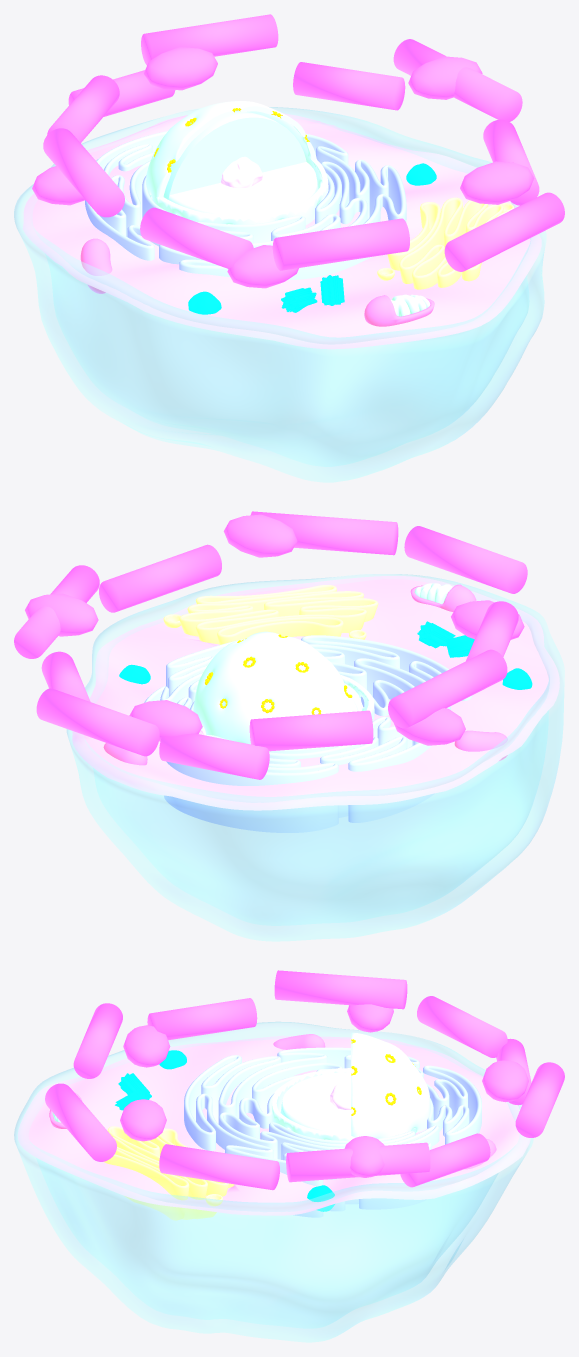
Rendered from heart-cellular-responding-1.glb.
3 views of the same model, one above another, from view 1: azimuth 30°, elevation 25°; view 2: azimuth 150°, elevation 25°; view 3: azimuth 270°, elevation 25° (orthographic). The views are drawn at different scales.
Parts seen in each view (by area): view 1: Sphere_0, Sphere.001_0, BezierCurve_0, Roundcube_0, Icosphere_0, BezierCurve.002_0, AmyloidFibril_7, AmyloidFibril_6, AmyloidFibril_4, AmyloidFibril_8, AmyloidFibril_3, AmyloidFibril_2 (+13 smaller); view 2: Sphere_0, Sphere.001_0, BezierCurve_0, Icosphere_0, BezierCurve.002_0, AmyloidFibril_4, AmyloidFibril_7, AmyloidFibril_1, AmyloidFibril_2, AmyloidFibril_9, AmyloidFibril_6, AmyloidFibril_5 (+12 smaller); view 3: Sphere_0, Sphere.001_0, BezierCurve_0, Icosphere_0, BezierCurve.002_0, AmyloidFibril_2, AmyloidFibril_1, AmyloidFibril_0, Roundcube_0, AmyloidFibril_3, AmyloidFibril_9, AmyloidFibril_6 (+12 smaller).
Part boxes in pixels (x1,y1,x2,y2): Sphere_0: (14, 107, 546, 482); Sphere.001_0: (22, 113, 541, 349); BezierCurve_0: (85, 131, 406, 280); Roundcube_0: (163, 111, 318, 215); Icosphere_0: (146, 101, 328, 224); BezierCurve.002_0: (377, 197, 514, 289); AmyloidFibril_7: (272, 218, 409, 270); AmyloidFibril_6: (444, 192, 564, 271); AmyloidFibril_4: (141, 14, 278, 65); AmyloidFibril_8: (293, 62, 405, 110); AmyloidFibril_3: (140, 207, 253, 268); AmyloidFibril_2: (43, 128, 124, 217); Sphere_0: (67, 574, 564, 941); Sphere.001_0: (72, 576, 559, 810); BezierCurve_0: (144, 635, 472, 832); Icosphere_0: (193, 631, 374, 744); BezierCurve.002_0: (163, 585, 378, 644); AmyloidFibril_4: (36, 688, 159, 756); AmyloidFibril_7: (404, 526, 527, 593); AmyloidFibril_1: (99, 544, 221, 612); AmyloidFibril_2: (388, 649, 507, 728); AmyloidFibril_9: (249, 710, 373, 751); AmyloidFibril_6: (251, 511, 398, 555); AmyloidFibril_5: (159, 733, 269, 779); Sphere_0: (14, 1022, 533, 1342); Sphere.001_0: (17, 1035, 530, 1215); BezierCurve_0: (184, 1047, 481, 1217); Icosphere_0: (272, 1032, 430, 1141); BezierCurve.002_0: (103, 1126, 234, 1220); AmyloidFibril_2: (274, 970, 407, 1009); AmyloidFibril_1: (159, 1144, 279, 1190); AmyloidFibril_0: (286, 1142, 430, 1182); Roundcube_0: (280, 1043, 418, 1133); AmyloidFibril_3: (147, 998, 257, 1040); AmyloidFibril_9: (417, 996, 507, 1057); AmyloidFibril_6: (45, 1083, 116, 1161).
Bounding box in the file's own units: 2.69 × 1.7 × 3.18.
